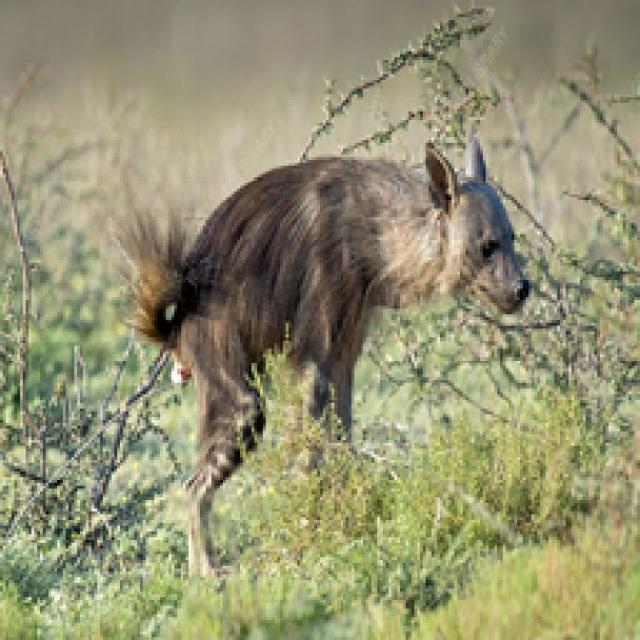hyena: (121, 135, 525, 511)
